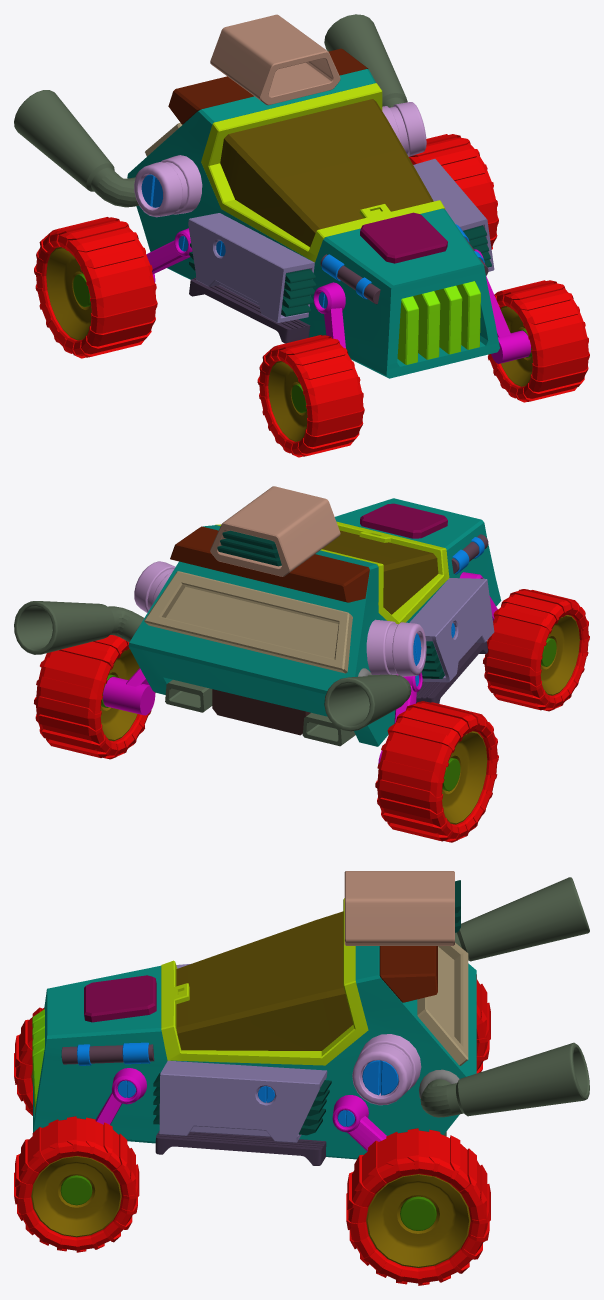
File: Car_Body_Resized_V15.fbx
The picture shows the model from 3 angles, top to bottom: view 1: azimuth 30°, elevation 25°; view 2: azimuth 150°, elevation 25°; view 3: azimuth 270°, elevation 25°; orthographic projection. The views are drawn at different scales.
Visible parts, largest first — view 1: MainBody, Window1, polySurface7, RailBody, RFrontTire, GrapplerBody, polySurface2, WindowFrame, RExhaust, polySurface8, LExhaust, Hood1 (+16 smaller); view 2: MainBody, SpeedMeter, polySurface7, polySurface8, RFrontTire, GrapplerBody, RailBody, RearFin, LExhaust, Window1, RExhaust, RBBody (+15 smaller); view 3: MainBody, Window1, RailBody, polySurface8, GrapplerBody, polySurface2, polySurface10, LExhaust, RExhaust, WindowFrame, polySurface6, SpeedMeter (+14 smaller).
Part boxes in pixels (x1,y1,x2,y2): MainBody: [127, 69, 499, 378]; Window1: [220, 99, 433, 246]; polySurface7: [34, 217, 157, 358]; RailBody: [188, 159, 494, 322]; RFrontTire: [257, 335, 364, 457]; GrapplerBody: [210, 14, 340, 105]; polySurface2: [488, 280, 589, 402]; WindowFrame: [201, 83, 445, 262]; RExhaust: [14, 90, 114, 191]; polySurface8: [409, 134, 498, 249]; LExhaust: [324, 14, 407, 103]; Hood1: [360, 212, 447, 263]; MainBody: [128, 498, 501, 746]; SpeedMeter: [144, 571, 352, 673]; polySurface7: [375, 701, 498, 842]; polySurface8: [34, 635, 155, 759]; RFrontTire: [483, 589, 589, 711]; GrapplerBody: [210, 486, 340, 576]; RailBody: [409, 578, 494, 682]; RearFin: [170, 526, 369, 602]; LExhaust: [14, 601, 114, 654]; Window1: [322, 530, 438, 614]; RExhaust: [324, 674, 407, 731]; RBBody: [366, 619, 426, 676]; MainBody: [33, 946, 476, 1159]; Window1: [176, 911, 353, 1050]; RailBody: [159, 963, 327, 1142]; polySurface8: [346, 1128, 490, 1285]; GrapplerBody: [344, 871, 454, 945]; polySurface2: [14, 1116, 139, 1252]; polySurface10: [366, 1174, 470, 1267]; LExhaust: [456, 1042, 589, 1116]; RExhaust: [457, 877, 589, 961]; WindowFrame: [161, 898, 368, 1065]; polySurface6: [31, 1156, 121, 1237]; SpeedMeter: [417, 942, 468, 1065].
Bounding box in the file's own units: 0.0368 × 0.0236 × 0.0414.
